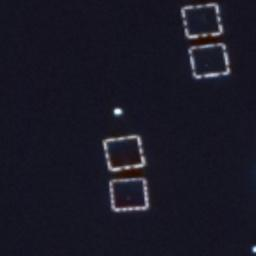square_solid: (185, 41, 235, 83), (177, 1, 228, 42), (100, 133, 149, 175), (107, 175, 153, 215)
